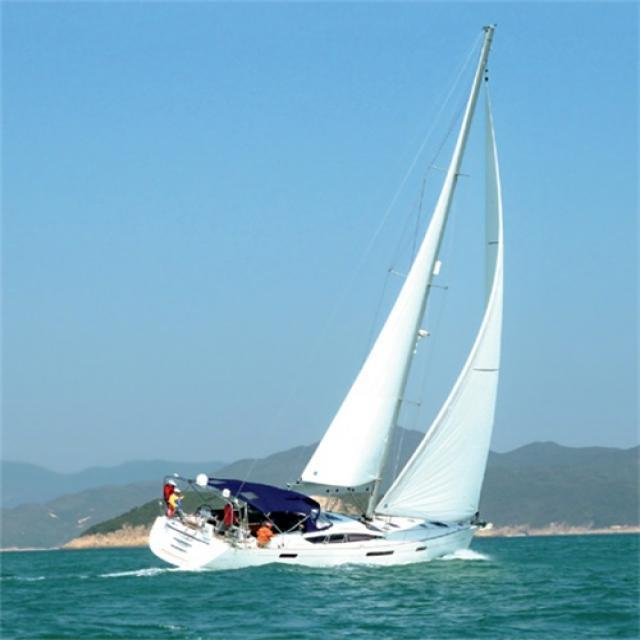Ship: (124, 25, 525, 562)
